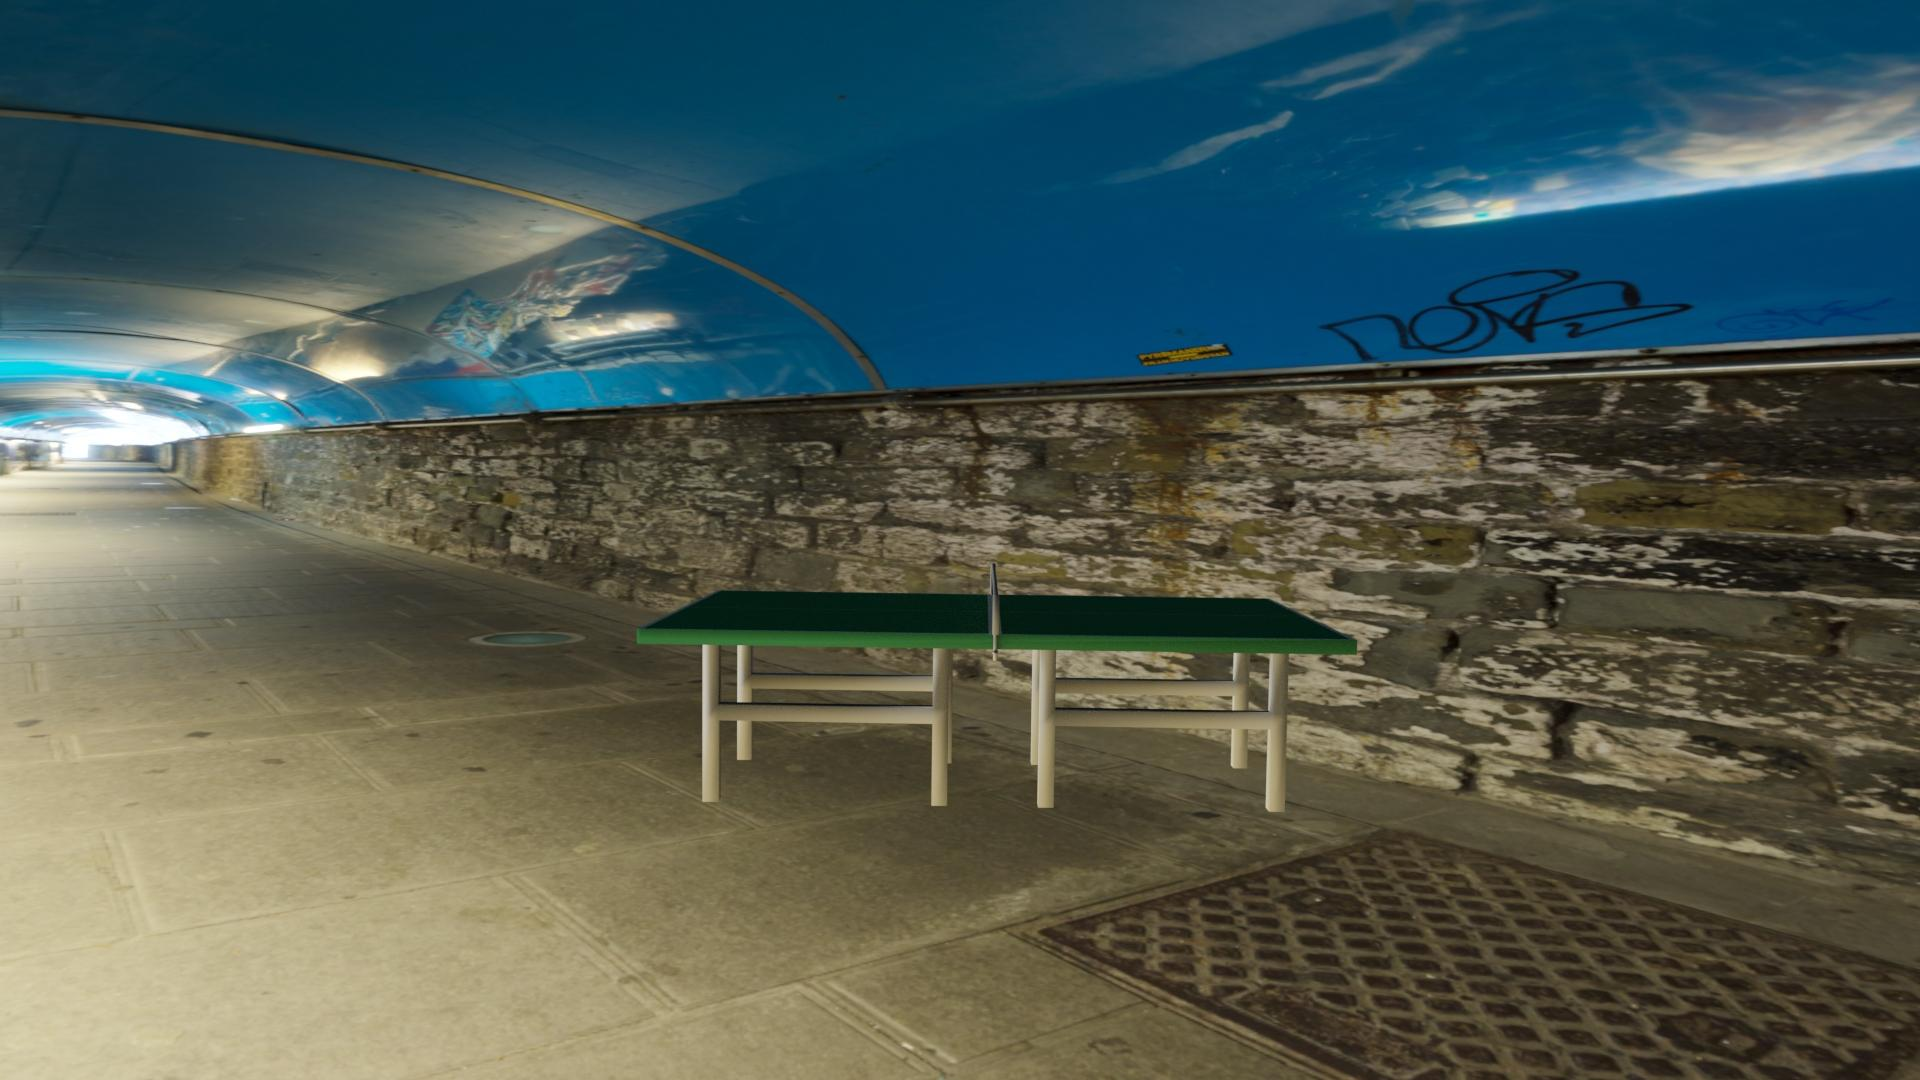table: (644, 591, 1350, 640)
